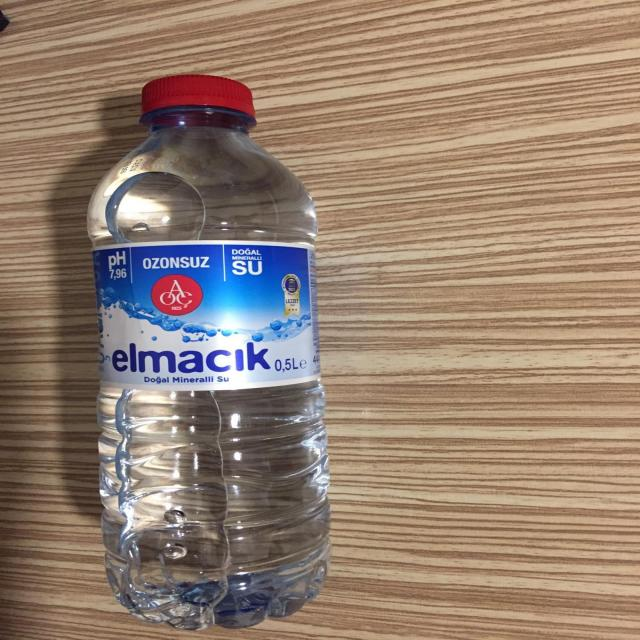bottle: (66, 66, 357, 623)
